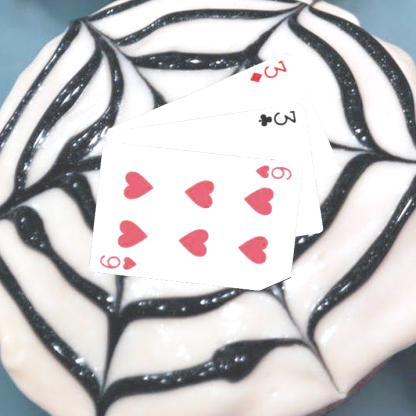3C: (256, 107, 298, 128)
3D: (247, 57, 289, 84)
6H: (253, 161, 294, 182), (97, 252, 138, 272)
